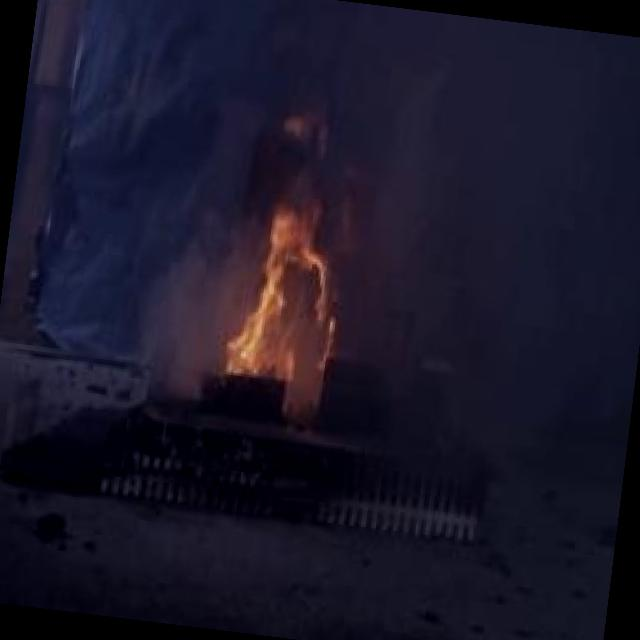fire: (217, 170, 354, 412)
